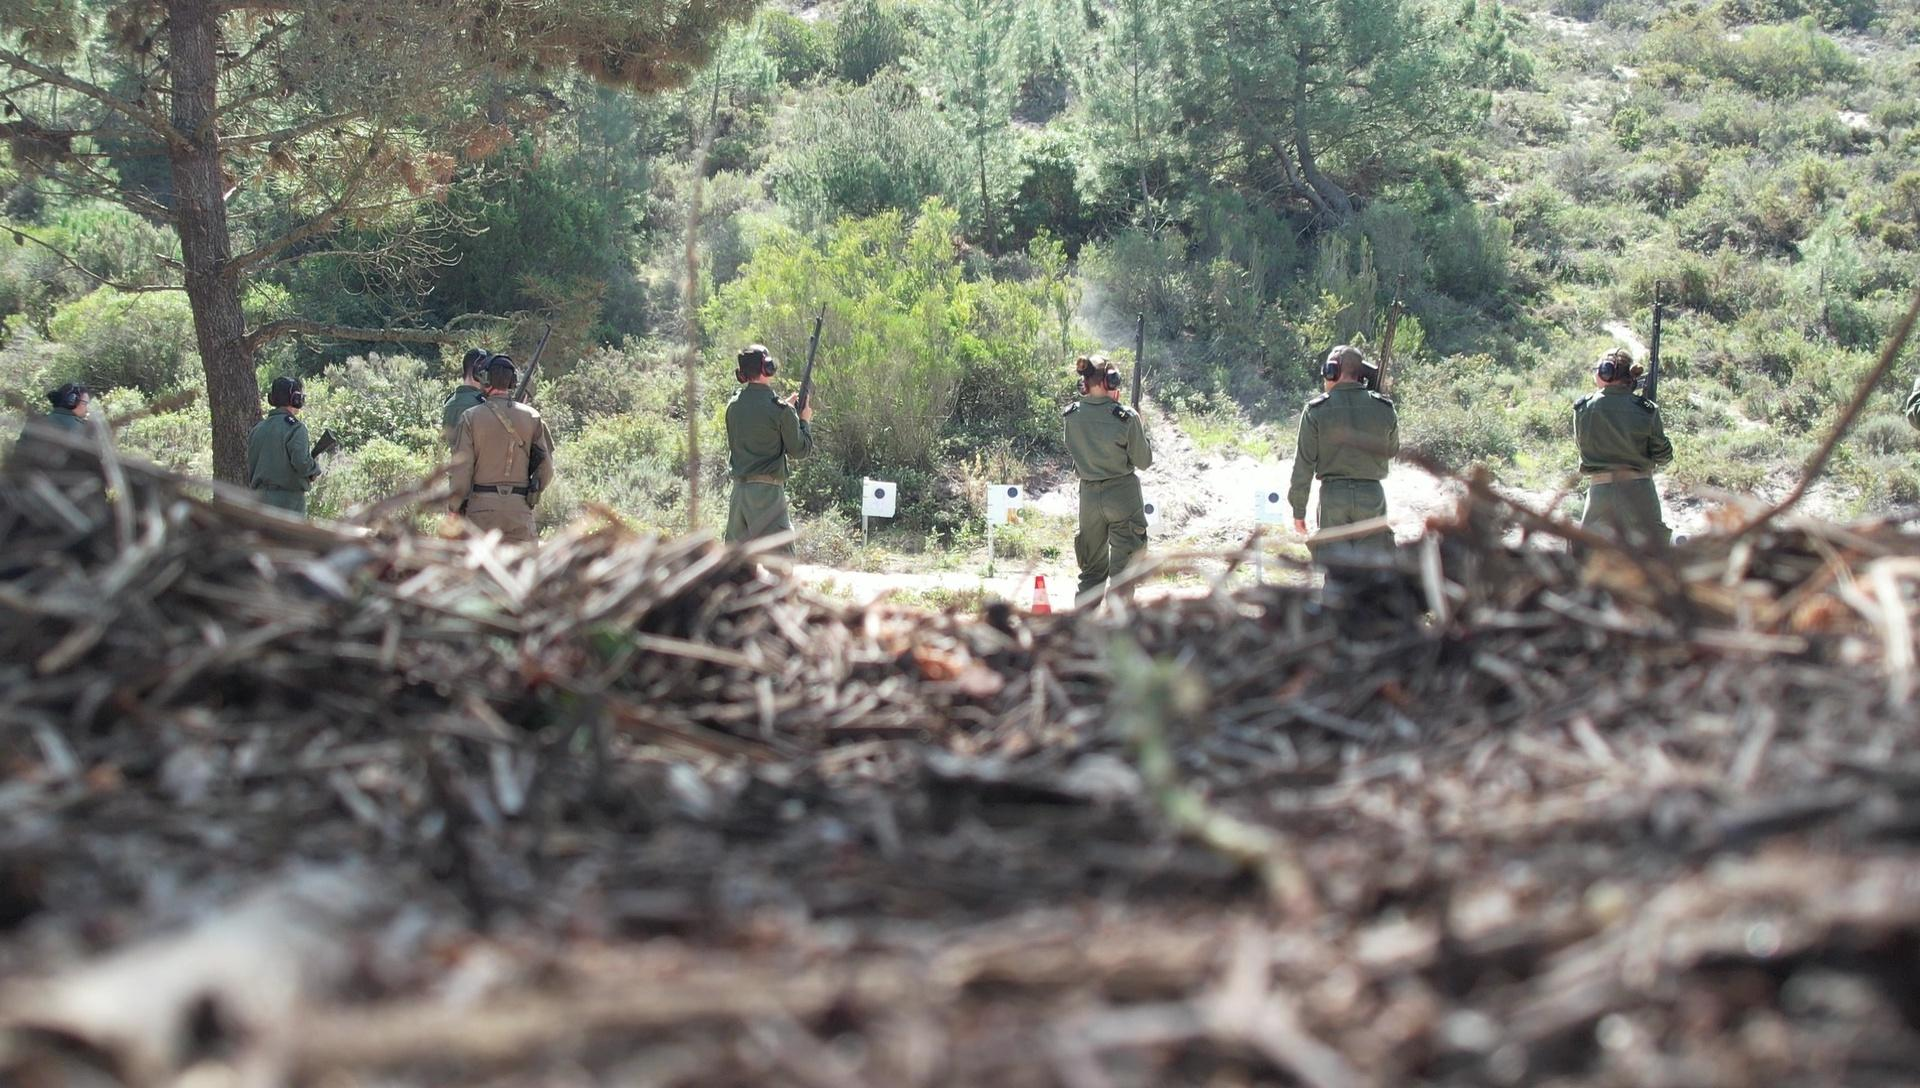Soldier: (1288, 287, 1428, 553), (1048, 331, 1178, 613), (1563, 276, 1696, 543), (713, 334, 855, 553), (448, 347, 556, 553), (214, 367, 330, 510)
